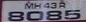character: (7, 10, 24, 22), (26, 10, 43, 21), (64, 9, 81, 20), (45, 10, 62, 20), (24, 2, 33, 10), (58, 2, 66, 9), (34, 2, 41, 9), (43, 2, 50, 8), (50, 2, 57, 8)
